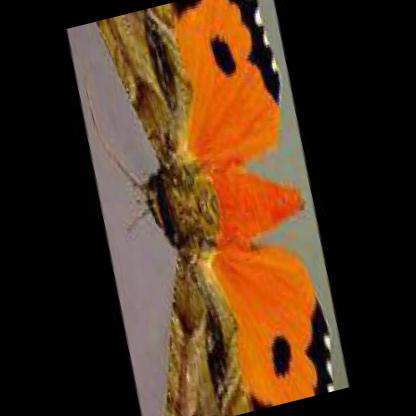fruit sucking moth: (99, 0, 332, 416)
